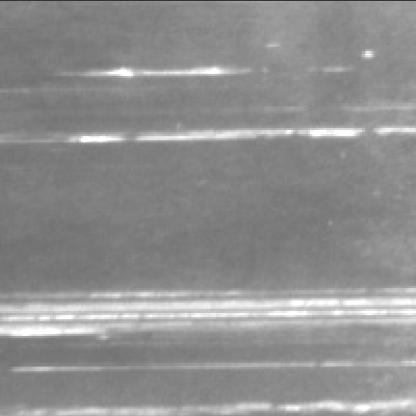scratches: (0, 274, 412, 338), (52, 114, 412, 150), (64, 52, 256, 83)
